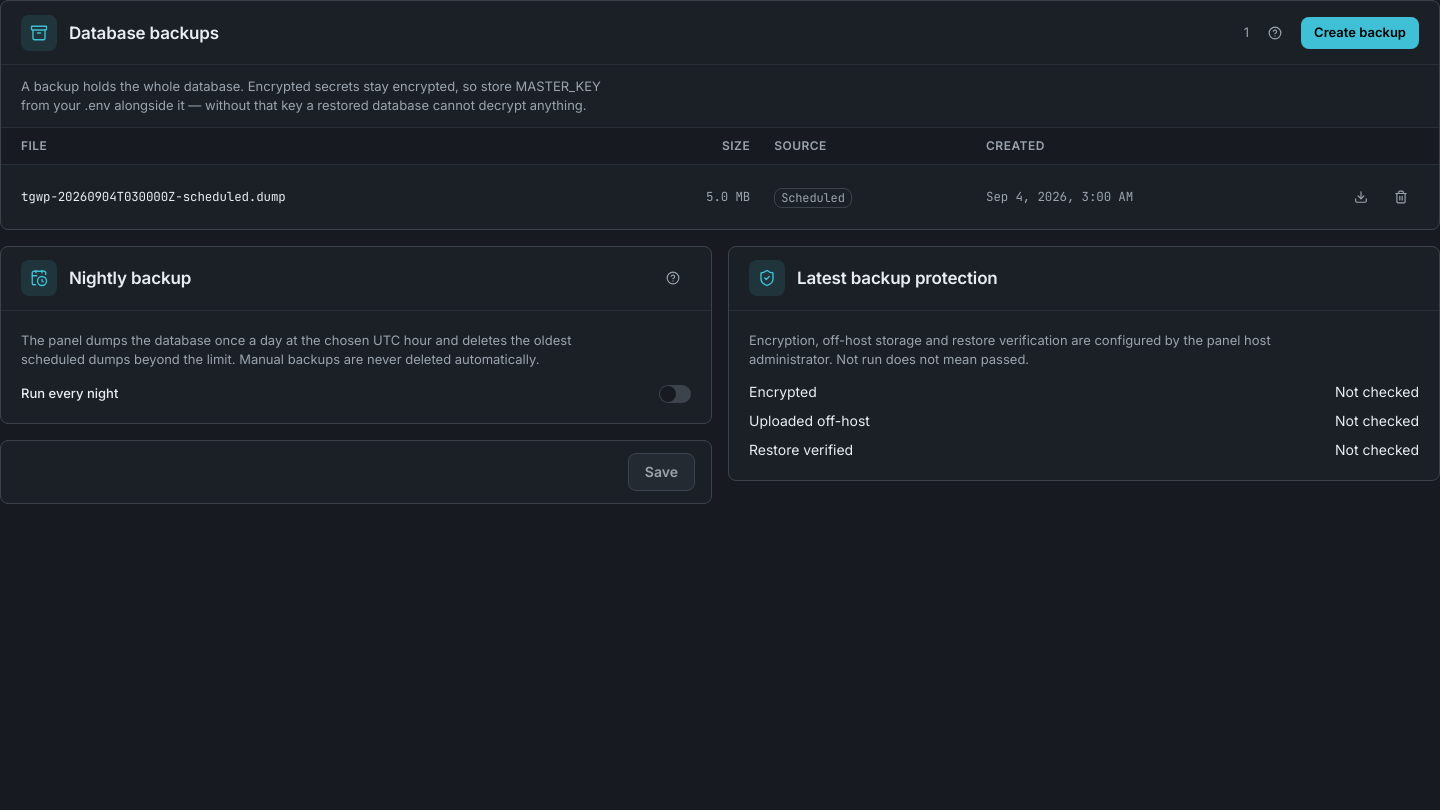
Test: BackupsForm › lists backups with a download link and hides the schedule fields until it is on
Expected: the text "tgwp-20260904T030000Z-scheduled.dump" is shown, [1, 164, 620, 228]
Expected: the text "5.0 MB" is shown, [620, 164, 762, 228]
Click the switch: (675, 394) [659, 384, 691, 403]
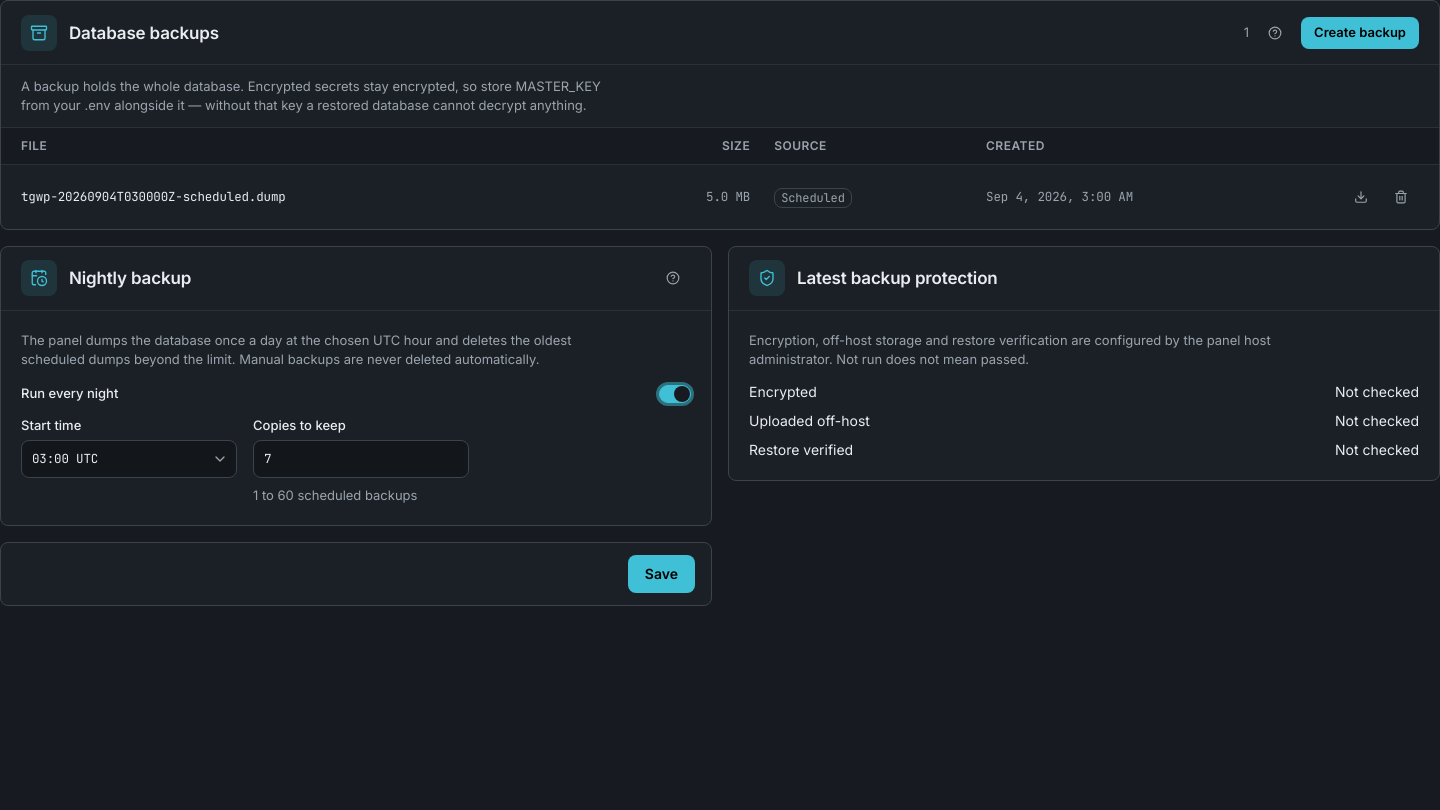
Expected: the number field labelled "Copies to keep" is shown, [253, 440, 469, 478]
